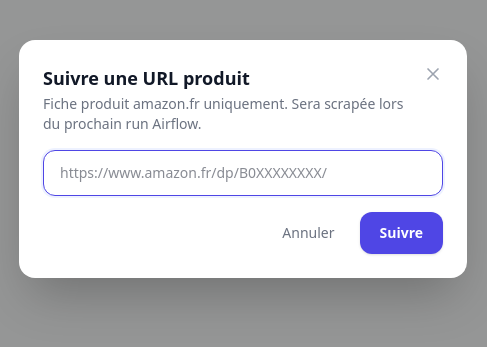
Test: AddTrackedUrlModal › affiche le refus du backend sans se fermer
Type "https://www.fnac.com/dp/B0TEST0001" into the field. click: (243, 173)
box: left=43, top=150, right=443, bottom=196
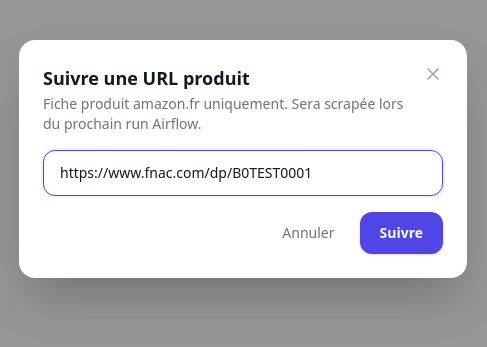
Click the button "Suivre". click: click(401, 233)
box: left=360, top=212, right=443, bottom=254
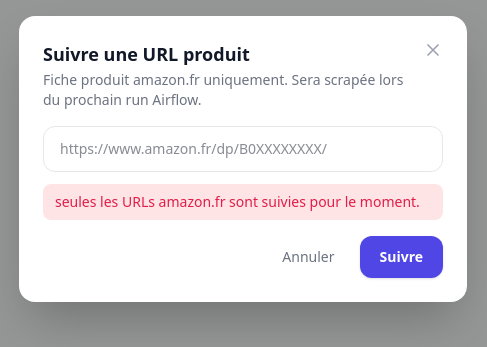
Expected: the text "seules les URLs amazon.fr sont suivies pour le moment." is shown, left=43, top=184, right=443, bottom=220
